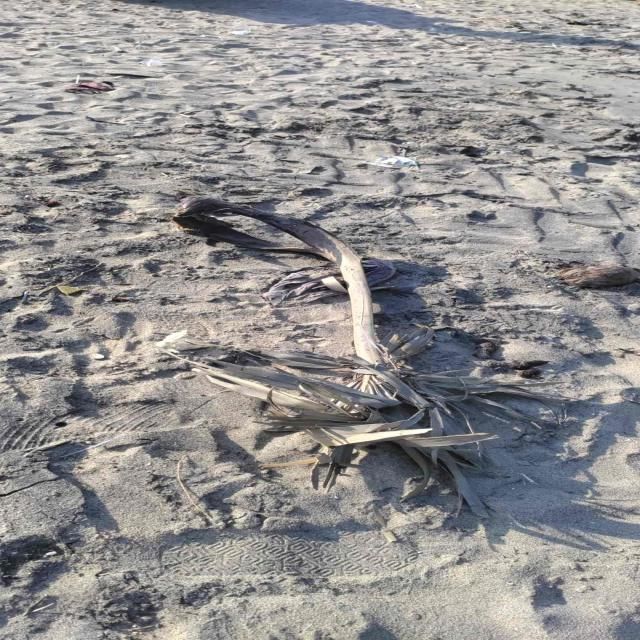biowaste: (156, 196, 569, 518), (555, 263, 640, 287)
other: (260, 266, 346, 307), (361, 258, 396, 290)
